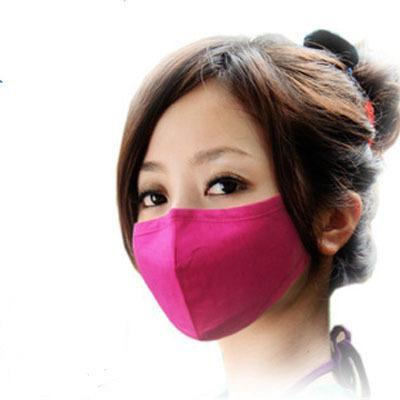OK: (127, 141, 303, 336)
